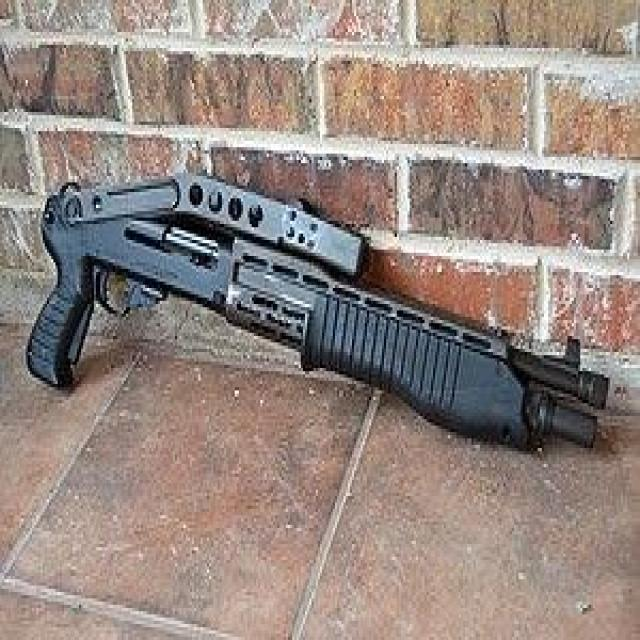weapon: (24, 160, 610, 464)
